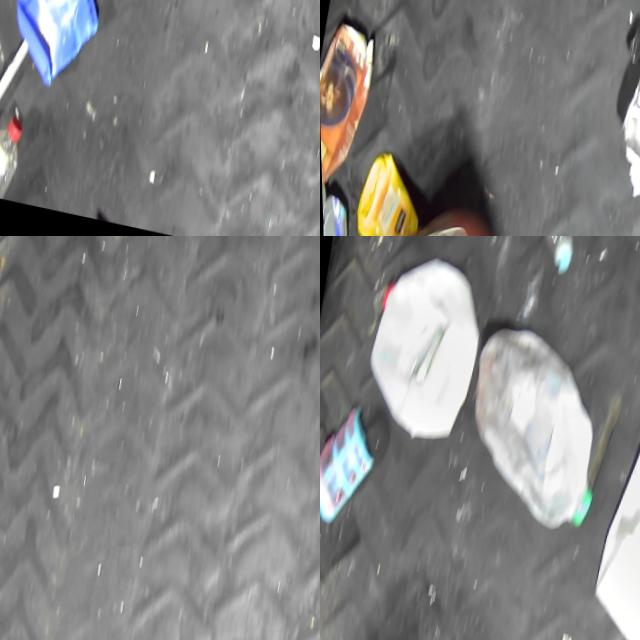can: (606, 63, 640, 189), (320, 189, 354, 236), (320, 191, 334, 236)
milk_jug: (447, 315, 621, 534), (351, 247, 494, 449), (574, 354, 640, 640)
non_white_jug: (340, 144, 429, 236)
plastic_bottle: (0, 104, 24, 201)
